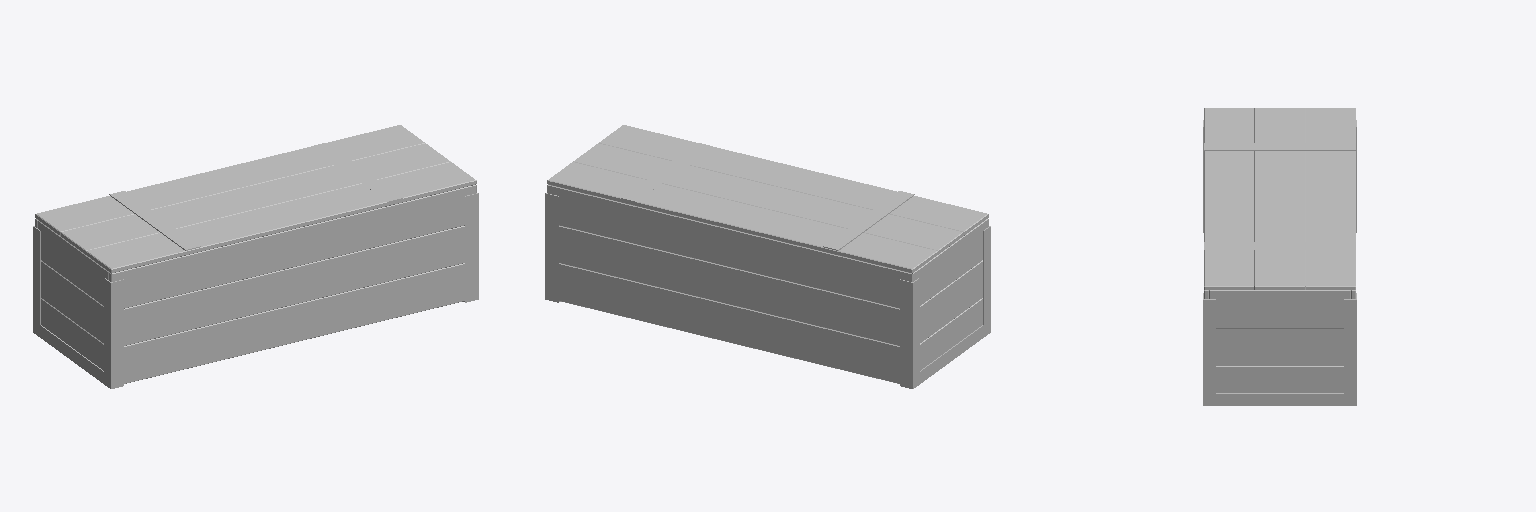
The model's file is chest1.obj.
The picture shows the model from 3 angles: view 1: azimuth 30°, elevation 25°; view 2: azimuth 150°, elevation 25°; view 3: azimuth 270°, elevation 25°; orthographic projection.
Parts seen in each view (by area): view 1: Cube.220, Cube.036; view 2: Cube.220, Cube.036; view 3: Cube.220, Cube.036.
Boxes of the visible parts, box(x1,y1,x2,y2) form: Cube.220: box(35, 125, 476, 383); Cube.036: box(33, 143, 478, 388); Cube.220: box(547, 125, 988, 383); Cube.036: box(545, 143, 990, 388); Cube.220: box(1204, 108, 1355, 392); Cube.036: box(1203, 120, 1356, 405).
Bounding box in the file's own units: 0.726 × 0.2275 × 0.2644.